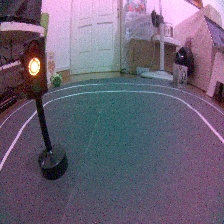amber: (18, 35, 73, 182)
